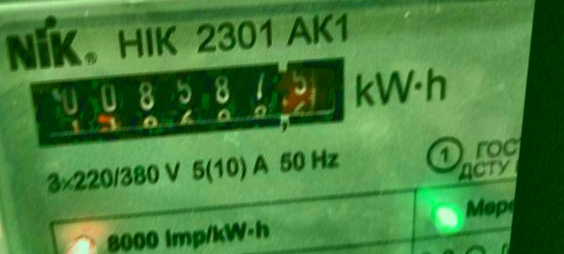0: (91, 77, 121, 114), (53, 81, 82, 116)
5: (169, 72, 195, 105), (284, 62, 309, 95)
6: (287, 97, 307, 116)
7: (244, 67, 270, 103)
8: (131, 77, 158, 111), (206, 70, 232, 105)
screen: (12, 24, 370, 181)
